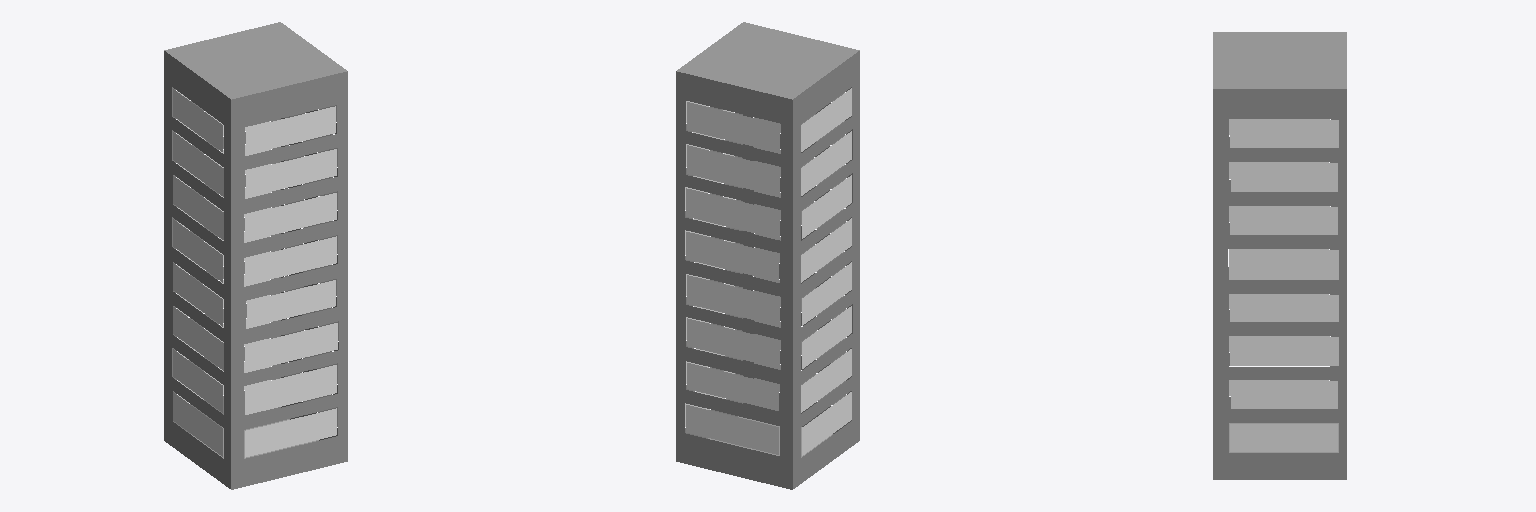
The picture shows the model from 3 angles: view 1: azimuth 30°, elevation 25°; view 2: azimuth 150°, elevation 25°; view 3: azimuth 270°, elevation 25°; orthographic projection.
Parts seen in each view (by area): view 1: Cube; view 2: Cube; view 3: Cube.
Part boxes in pixels (bbox=[...]): Cube: bbox=[164, 22, 347, 489]; Cube: bbox=[676, 22, 859, 489]; Cube: bbox=[1213, 32, 1346, 479].
Size of the model in its own units: 10 by 32 by 10.
1 materials, 1 textured.